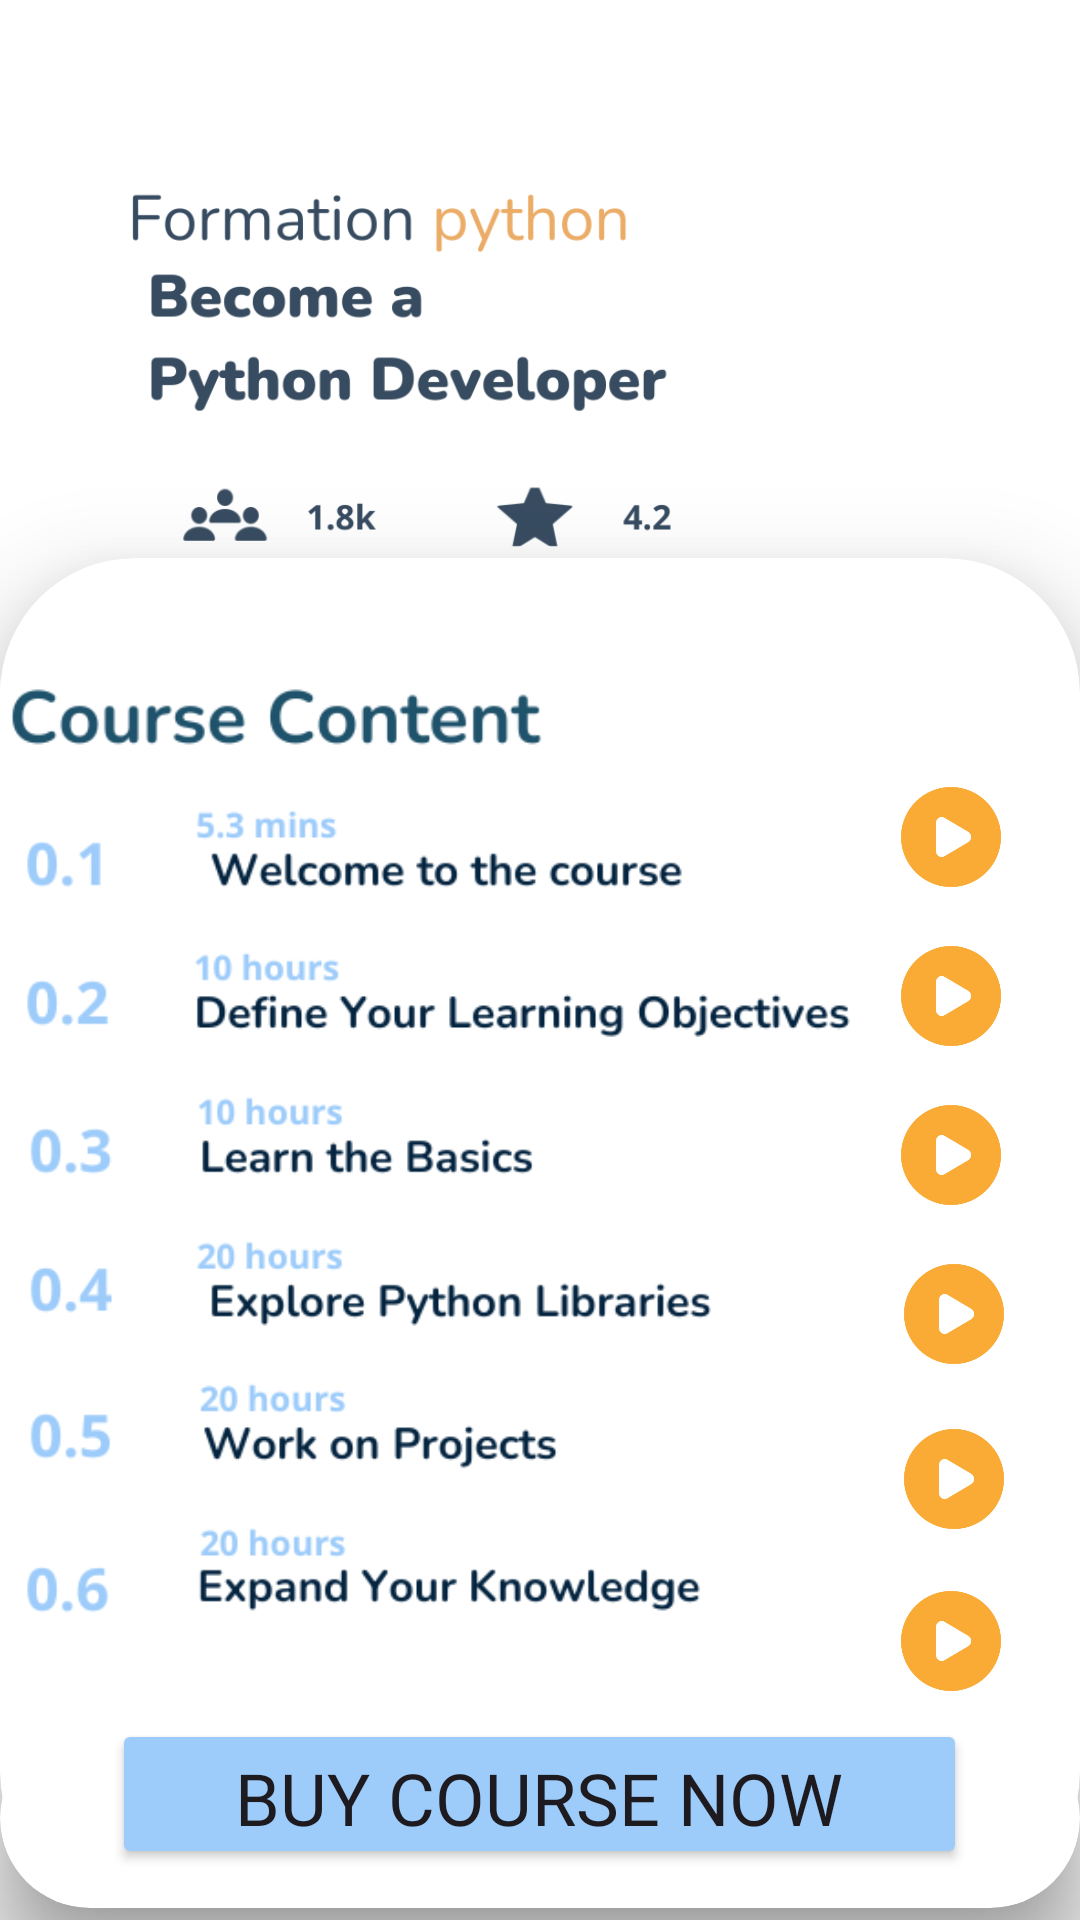

Screen size 1080px×1920px. Icon name, then its center in pixels as point (x, y):
playicon: point (951, 837), point (951, 996), point (951, 1155), point (954, 1314), point (954, 1479), point (951, 1641)
